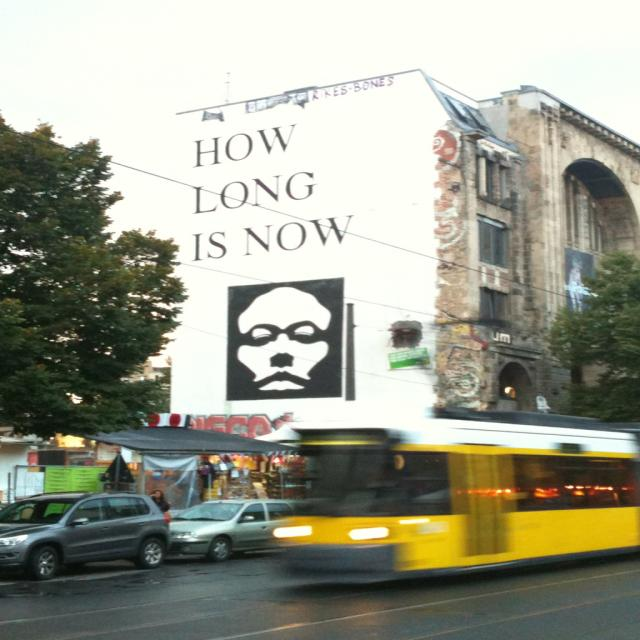car: (0, 493, 182, 579)
